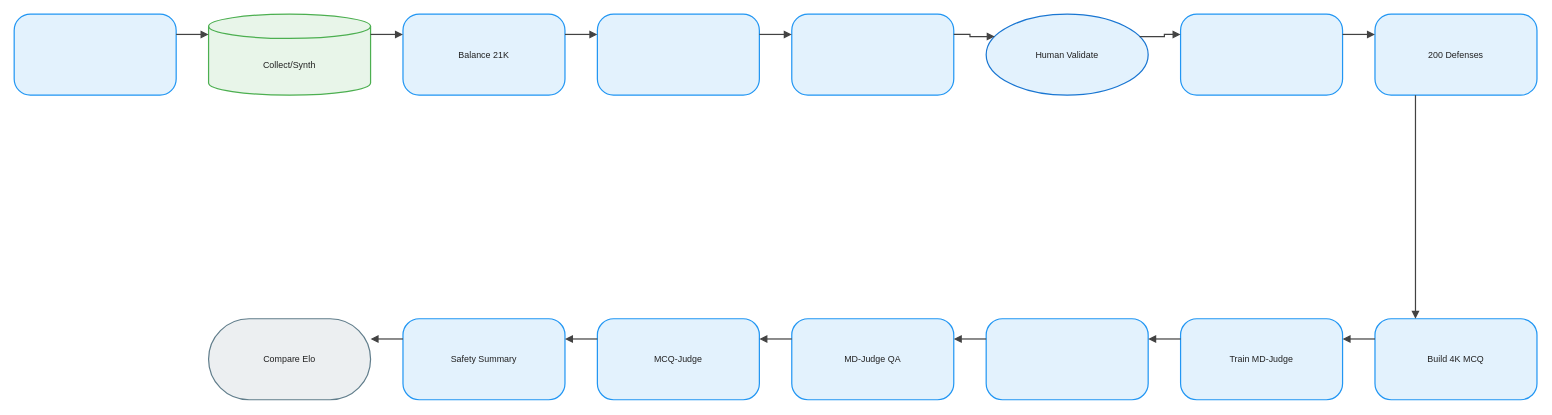
Some shapes in this 1552 by 415 pixel diagram are drawn without their labels. Here are the shapes that lost their labels. From the top down, the centre of each, then its label:
the point at 94,54: Set Taxonomy
the point at 678,54: Dedup & Filter
the point at 872,54: Consensus
the point at 1261,54: 5K Attacks
the point at 1066,359: Run 4 Sets
